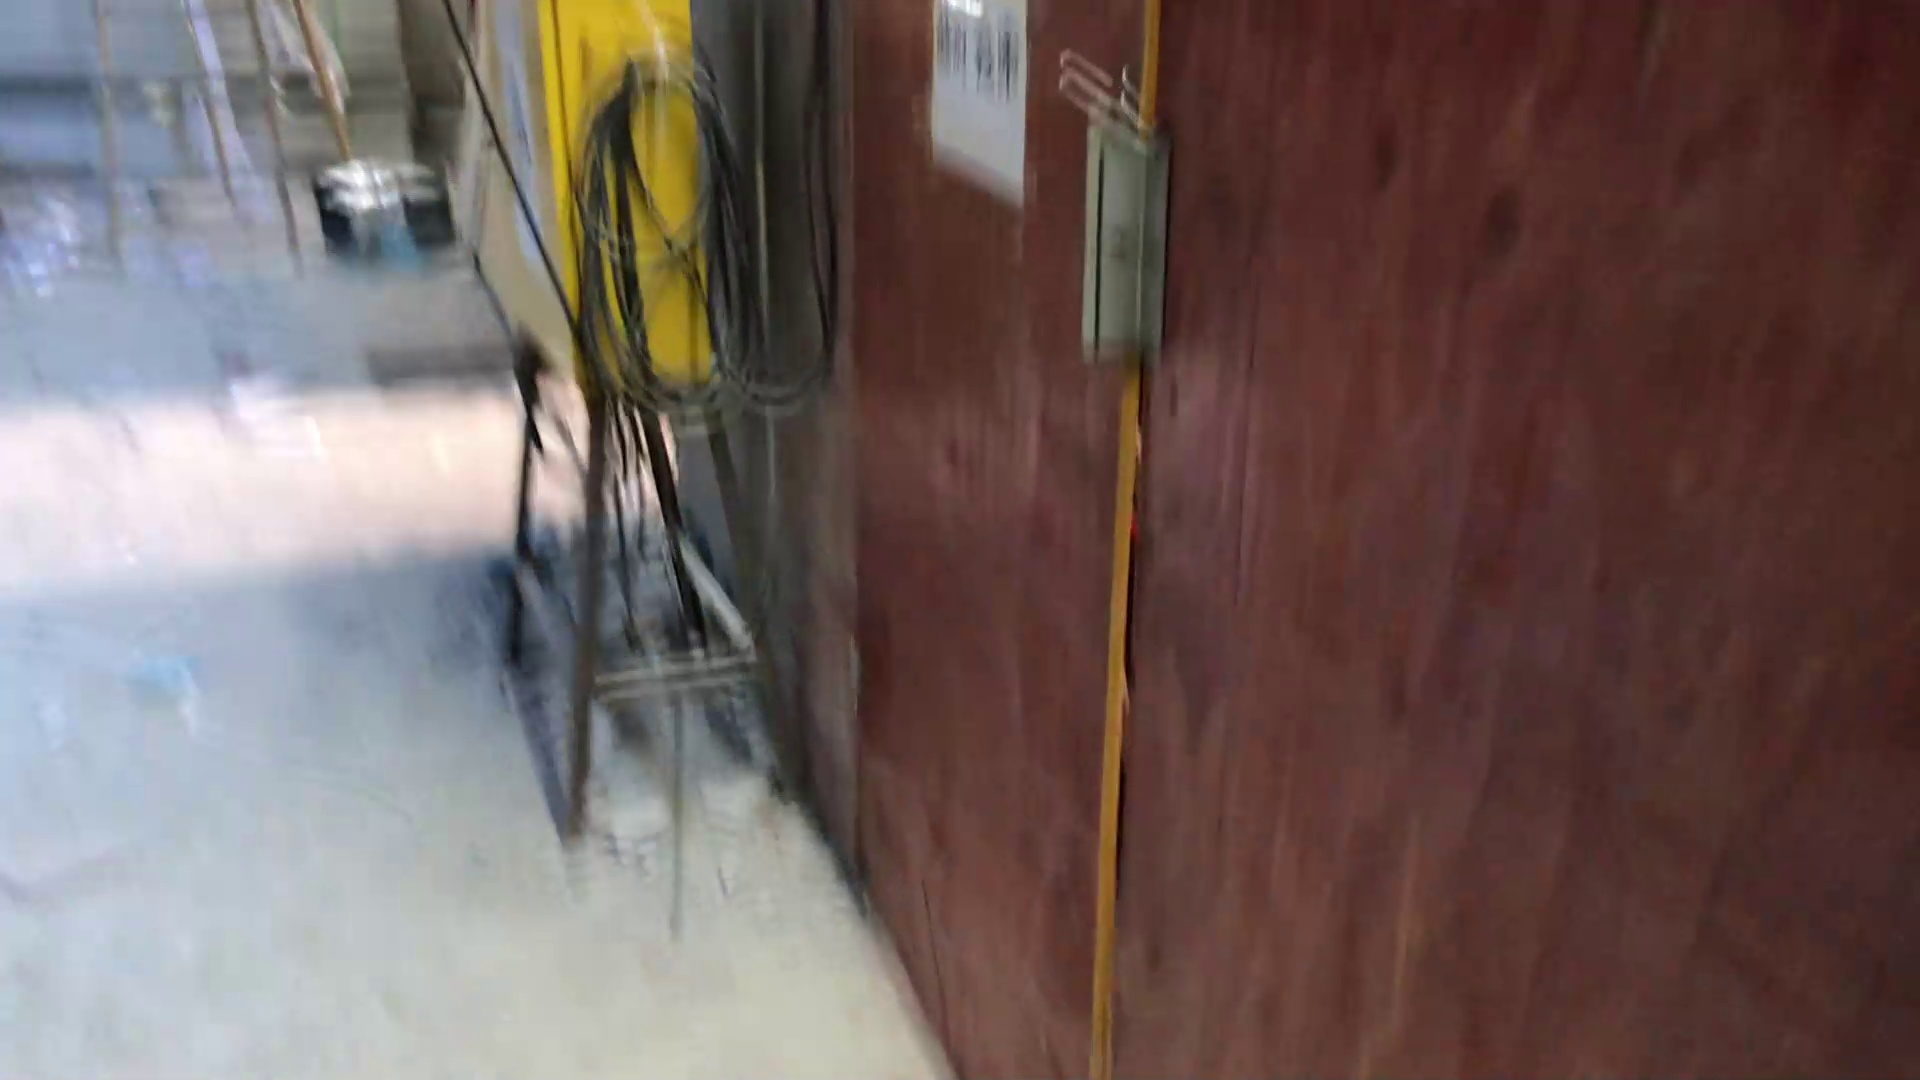ebox: (435, 3, 782, 858)
